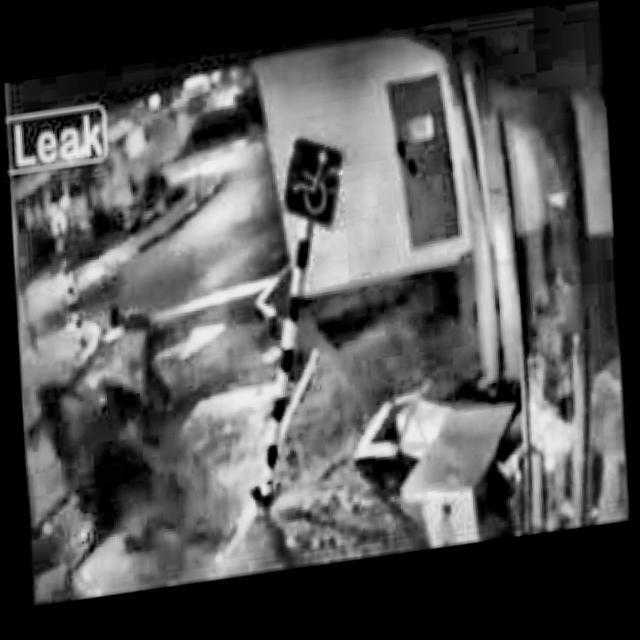Weapon: (44, 283, 278, 590)
